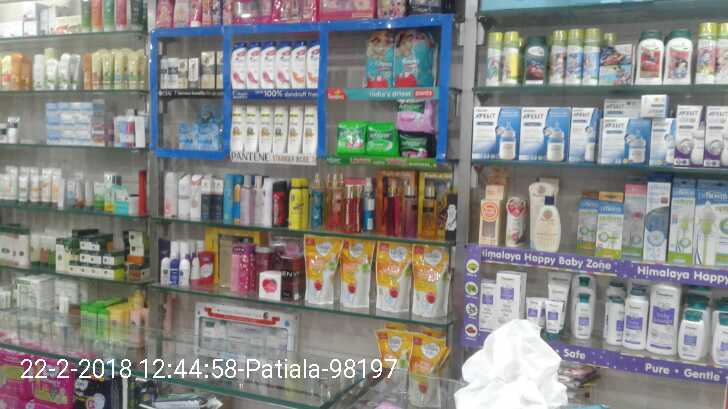venus: (196, 122, 219, 149), (176, 121, 196, 149)
